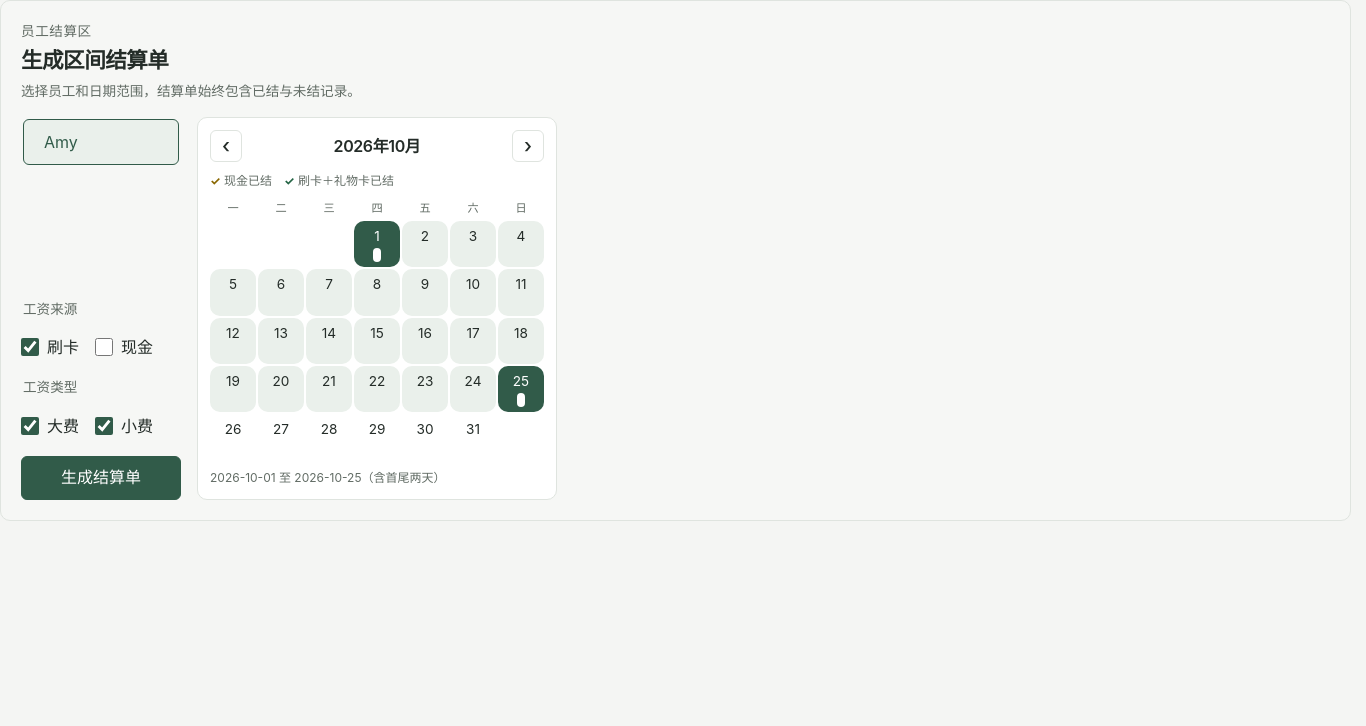
Scenario: 工资结算复选框 › 查询、付款、图片和短信均保留类型，切换条件清除旧预览
Click the checkbox labelled "大费": click(30, 426) [21,417,39,435]
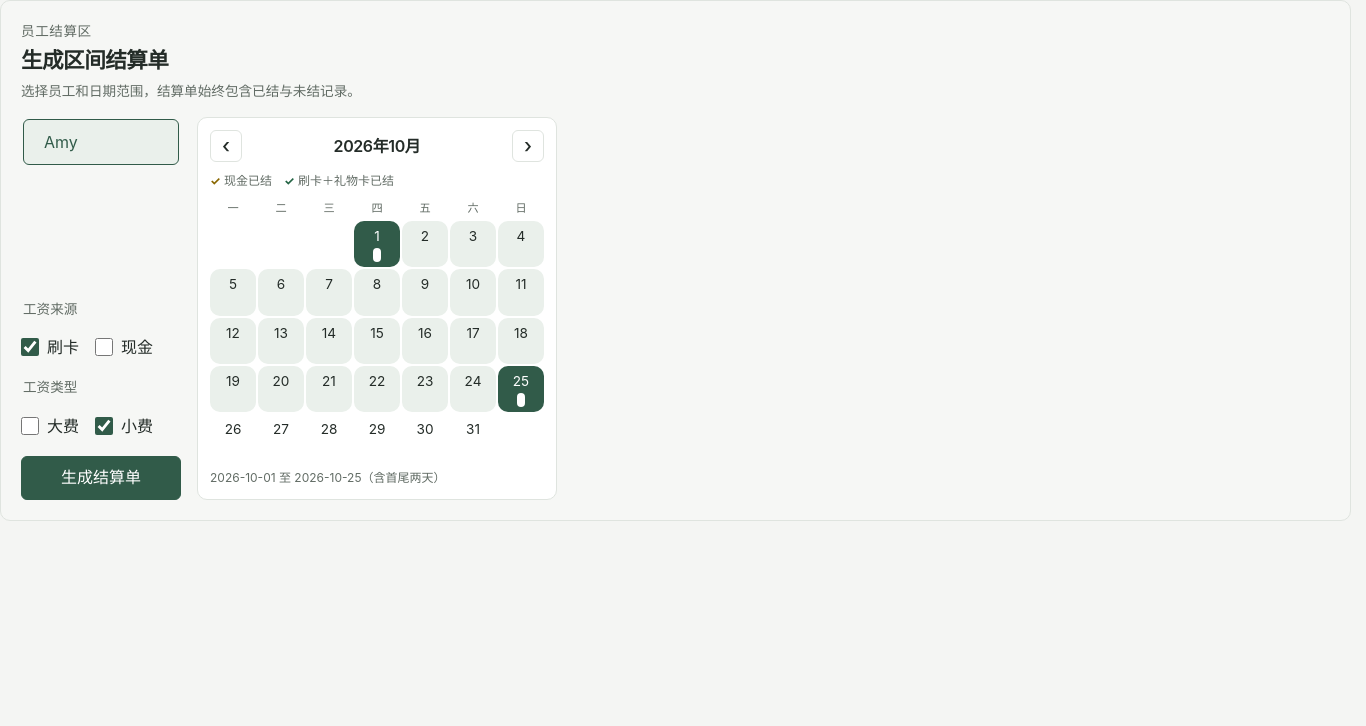
Click the button "生成结算单": click(101, 478) [21,456,181,500]
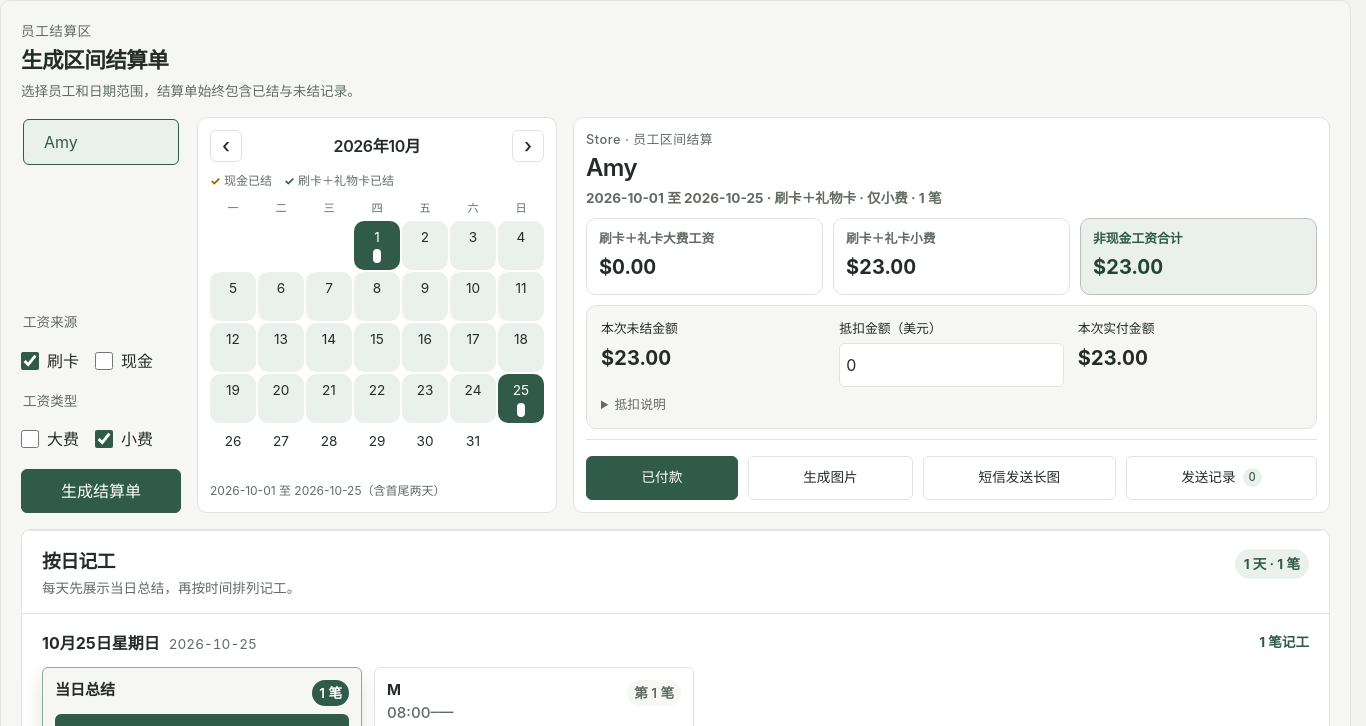
Click the button "生成图片": click(830, 478) [748,456,913,500]
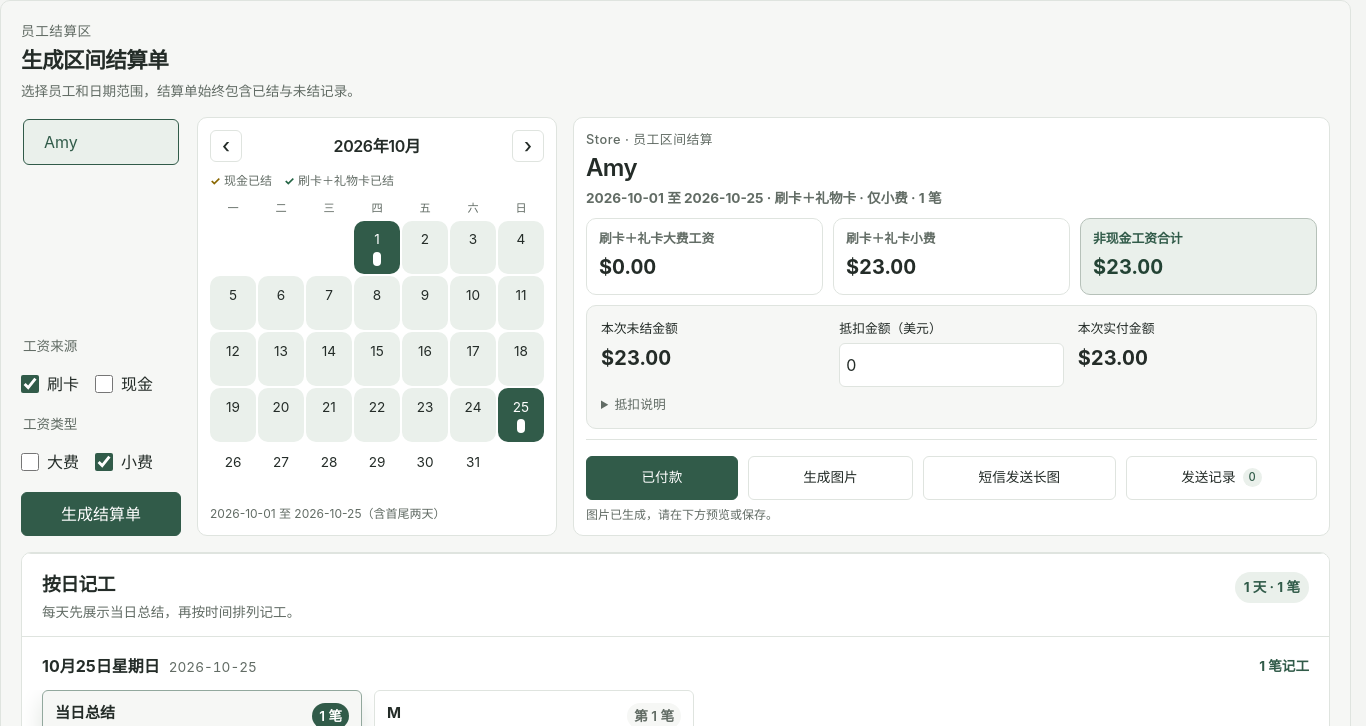
Click the button "短信发送长图": click(1019, 478) [923,456,1116,500]
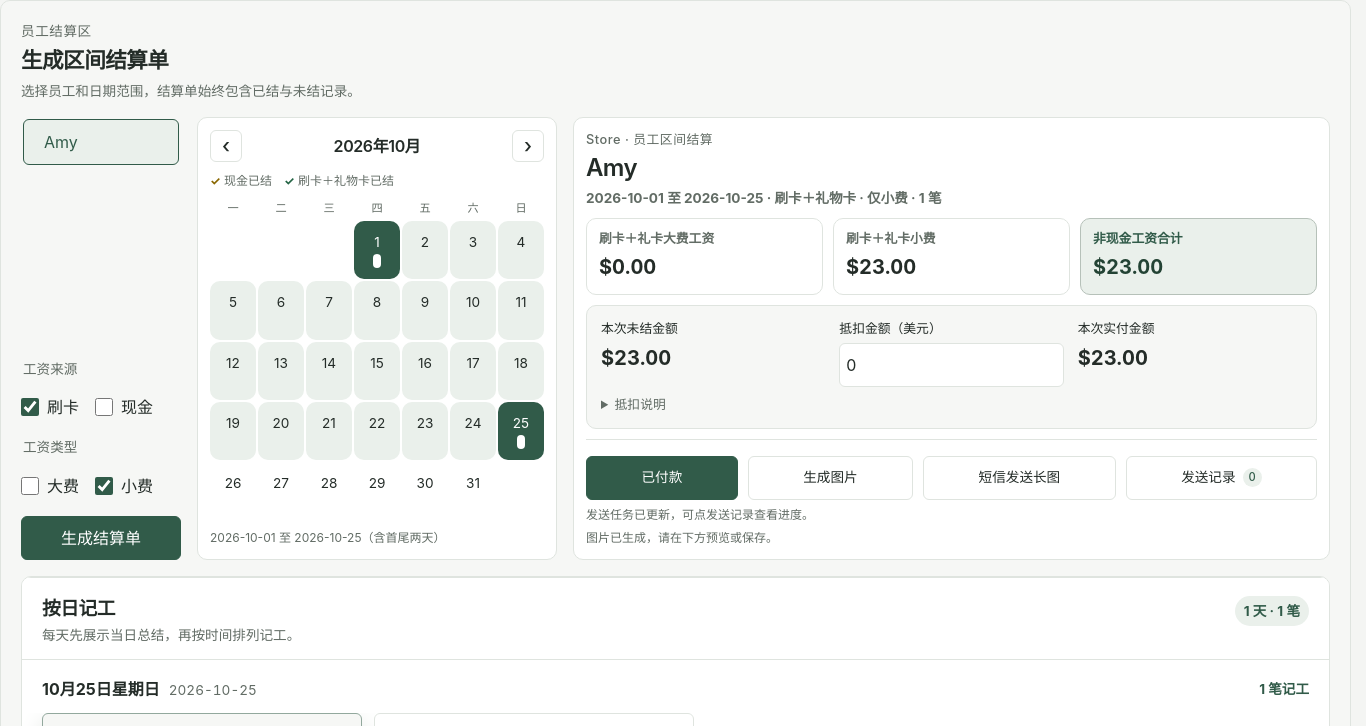
Click the button "已付款": click(662, 478) [586,456,738,500]
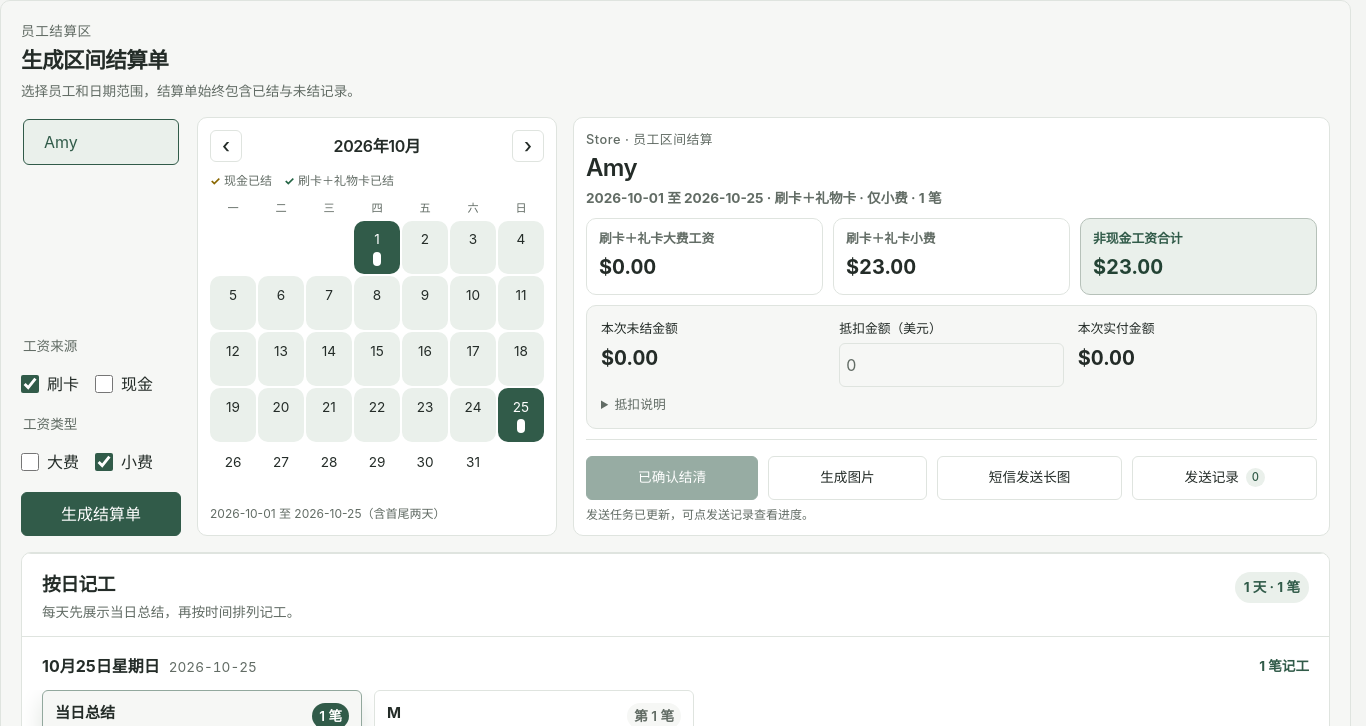
Click the checkbox labelled "现金": click(104, 384) [95,375,113,393]
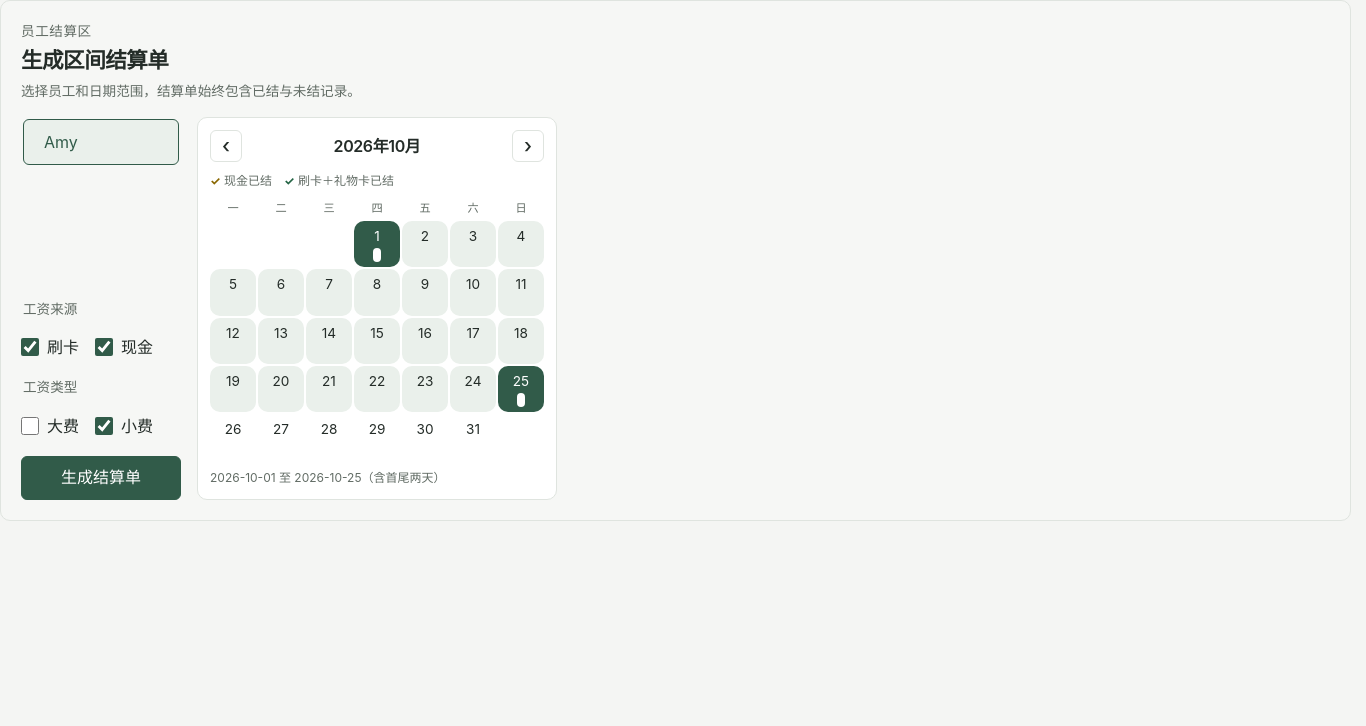
Expected: the element named "结算单汇总" is gone
